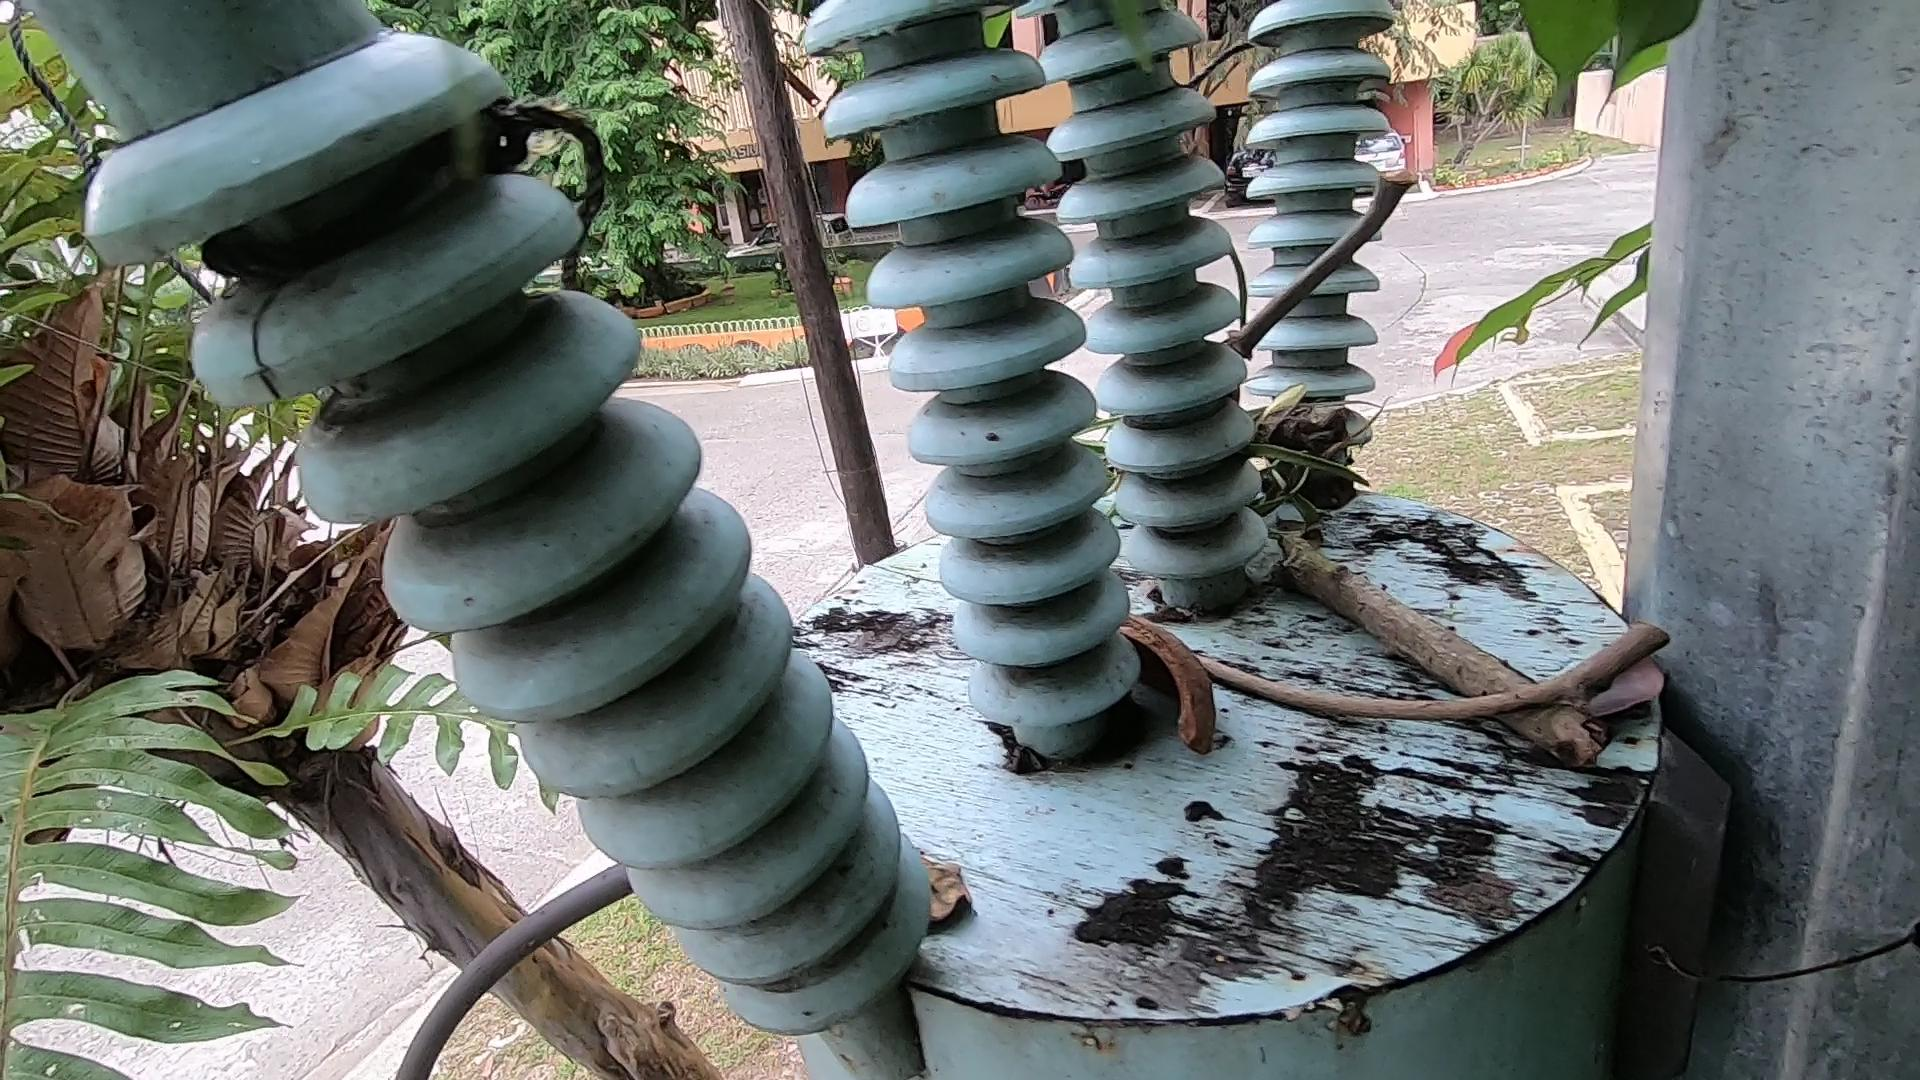branch with leaves: (1151, 357, 1589, 789)
leaf: (1578, 632, 1695, 775), (918, 837, 997, 955)
mahogany fruit: (1135, 592, 1266, 807)
tree branch: (1207, 98, 1429, 409), (1178, 642, 1695, 735)
